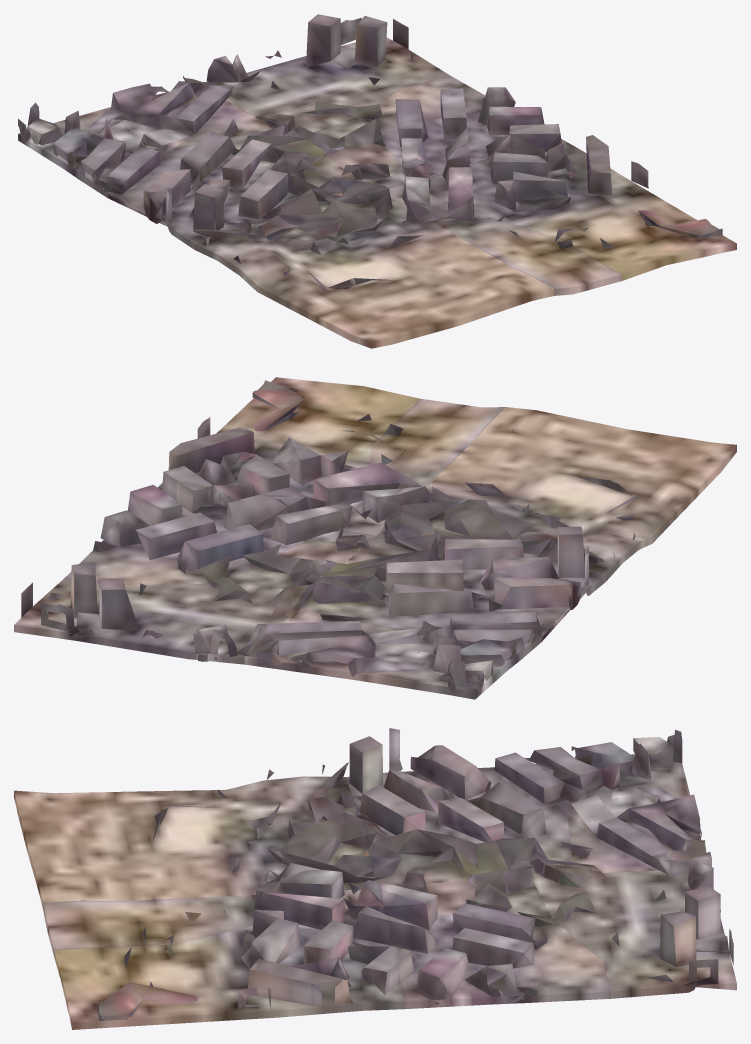
3 renders of one model, top to bottom at view 1: azimuth 30°, elevation 25°; view 2: azimuth 150°, elevation 25°; view 3: azimuth 270°, elevation 25°, orthographic. The views are drawn at different scales.
Parts seen in each view (by area): view 1: Mesh_0; view 2: Mesh_0; view 3: Mesh_0.
Part boxes in pixels (x1,y1,x2,y2): Mesh_0: (18,14,736,348); Mesh_0: (14,377,736,699); Mesh_0: (14,728,736,1029).
Bounding box in the file's own units: 538 × 69.45 × 659.
1 material, 1 textured.
